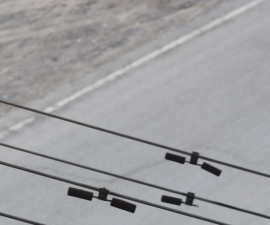damper: (65, 184, 138, 214), (162, 148, 223, 178)
damper_defect: (159, 189, 201, 209)
